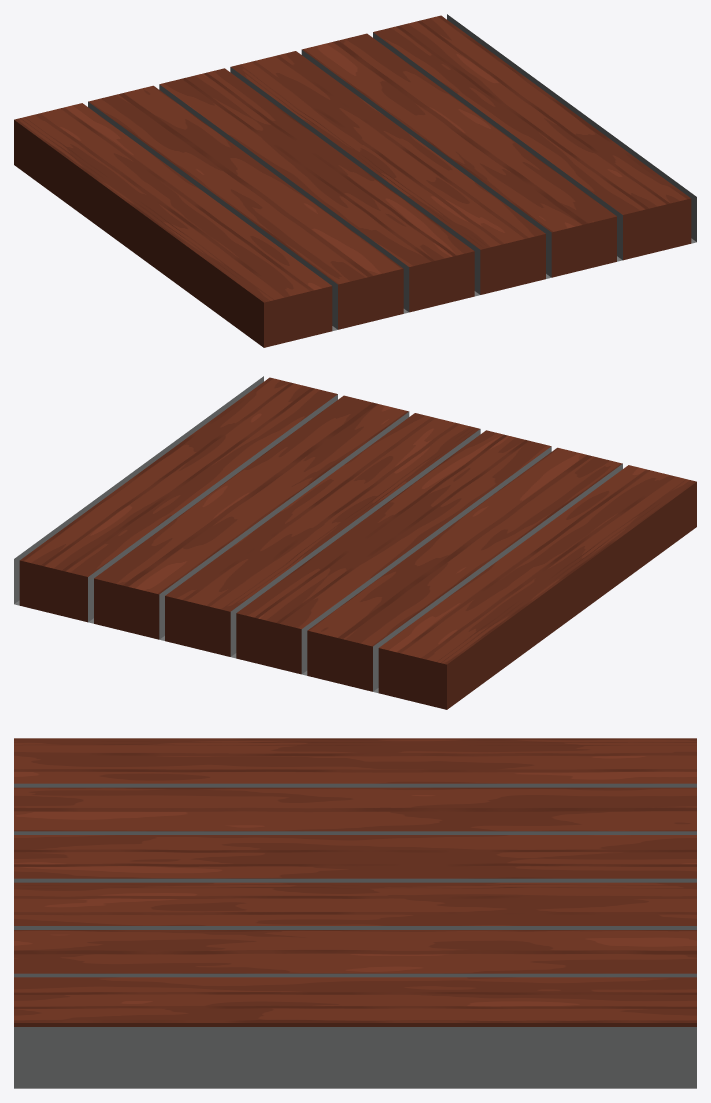
File: Tiles_01.glb
3 views of the same model, one above another, from view 1: azimuth 30°, elevation 25°; view 2: azimuth 150°, elevation 25°; view 3: azimuth 270°, elevation 25° (orthographic). The views are drawn at different scales.
Parts seen in each view (by area): view 1: Room_Floor_Wood01; view 2: Room_Floor_Wood01; view 3: Room_Floor_Wood01.
Part boxes in pixels (x1,y1,x2,y2): Room_Floor_Wood01: (14,14,696,347); Room_Floor_Wood01: (14,376,696,709); Room_Floor_Wood01: (14,738,696,1088).
Size of the model in its own units: 1 by 0.1 by 1.
2 materials, 1 textured.
